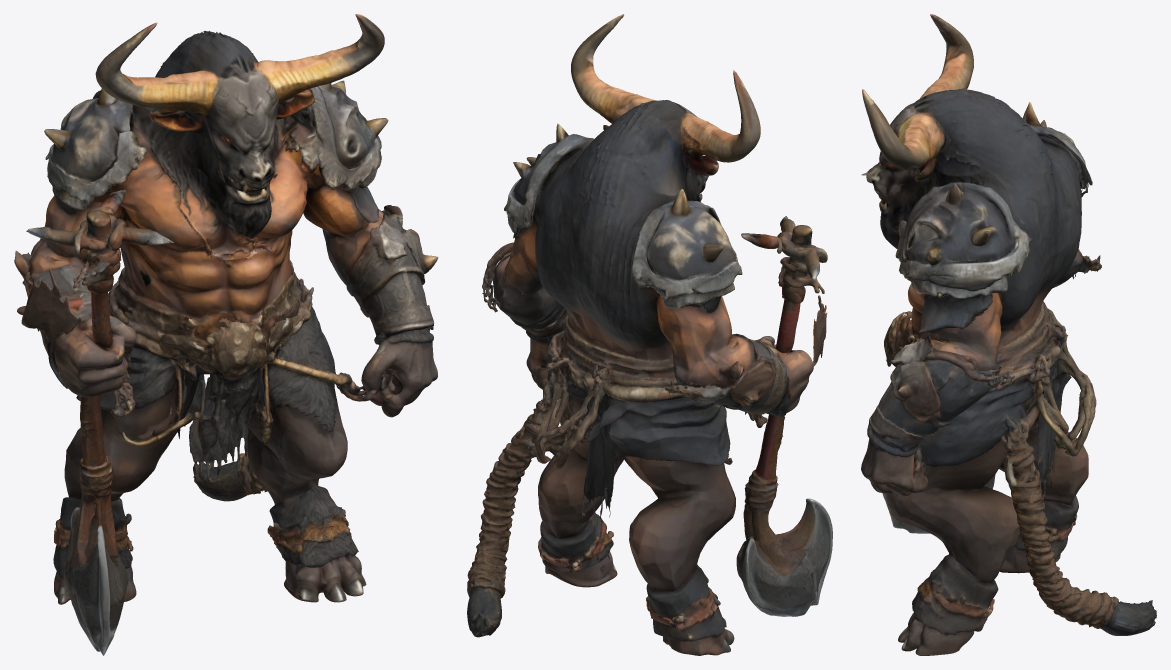
The model's file is adult_minotaur.glb.
3 renders of one model, left to right at view 1: azimuth 30°, elevation 25°; view 2: azimuth 150°, elevation 25°; view 3: azimuth 270°, elevation 25°, orthographic. The views are drawn at different scales.
Visible parts, largest first — view 1: Object_4, Object_5, Object_6, Object_7; view 2: Object_5, Object_4, Object_6, Object_7; view 3: Object_4, Object_5, Object_6, Object_7.
Part boxes in pixels (x1=…): Object_4: x1=21, y1=31, x2=437, y2=655; Object_5: x1=22, y1=14, x2=438, y2=589; Object_6: x1=14, y1=25, x2=433, y2=602; Object_7: x1=14, y1=14, x2=436, y2=652; Object_5: x1=467, y1=14, x2=825, y2=646; Object_4: x1=467, y1=87, x2=832, y2=655; Object_6: x1=467, y1=41, x2=832, y2=653; Object_7: x1=467, y1=14, x2=832, y2=655; Object_4: x1=864, y1=40, x2=1152, y2=655; Object_5: x1=861, y1=14, x2=1156, y2=655; Object_6: x1=869, y1=15, x2=1140, y2=637; Object_7: x1=862, y1=18, x2=1156, y2=652.
Bounding box in the file's own units: 1.3 × 2 × 0.9687.
1 material, 1 textured.
